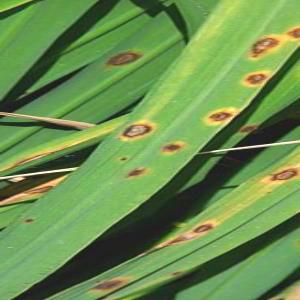0 BrownSpot: (243, 24, 283, 68), (237, 60, 277, 95), (98, 45, 149, 72), (256, 159, 300, 190), (198, 101, 244, 130), (114, 118, 161, 146), (84, 272, 135, 296), (153, 136, 193, 160), (282, 13, 300, 52), (187, 219, 219, 239), (123, 162, 150, 184), (20, 215, 39, 227), (168, 268, 186, 279), (115, 152, 131, 164)
